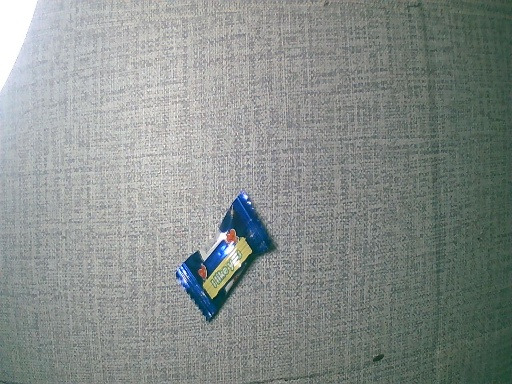plastic: (170, 196, 276, 326)
